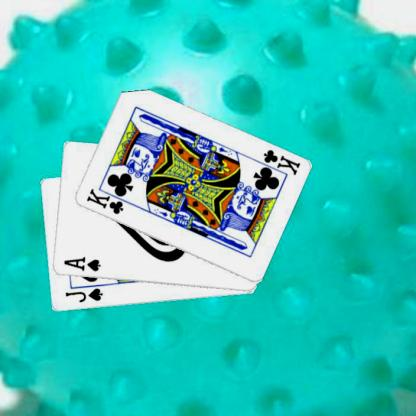AS: (61, 254, 102, 273)
JS: (63, 286, 104, 304)
KC: (83, 185, 132, 216), (252, 147, 301, 178)
